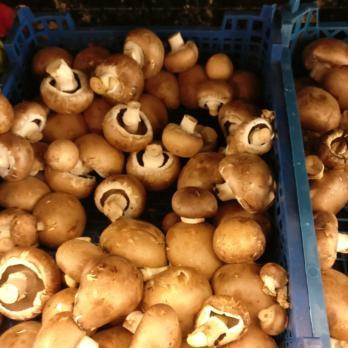Mushroom: (30, 26, 283, 348), (293, 30, 348, 348), (0, 92, 47, 348)
